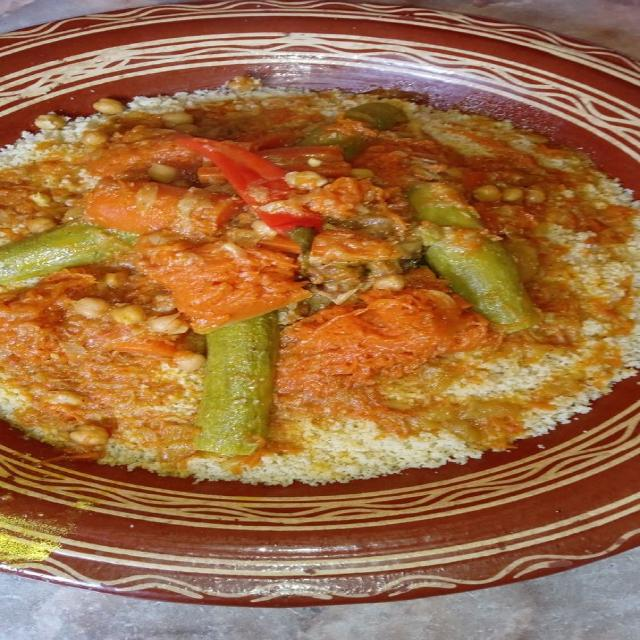Couscous: (0, 94, 625, 477)
